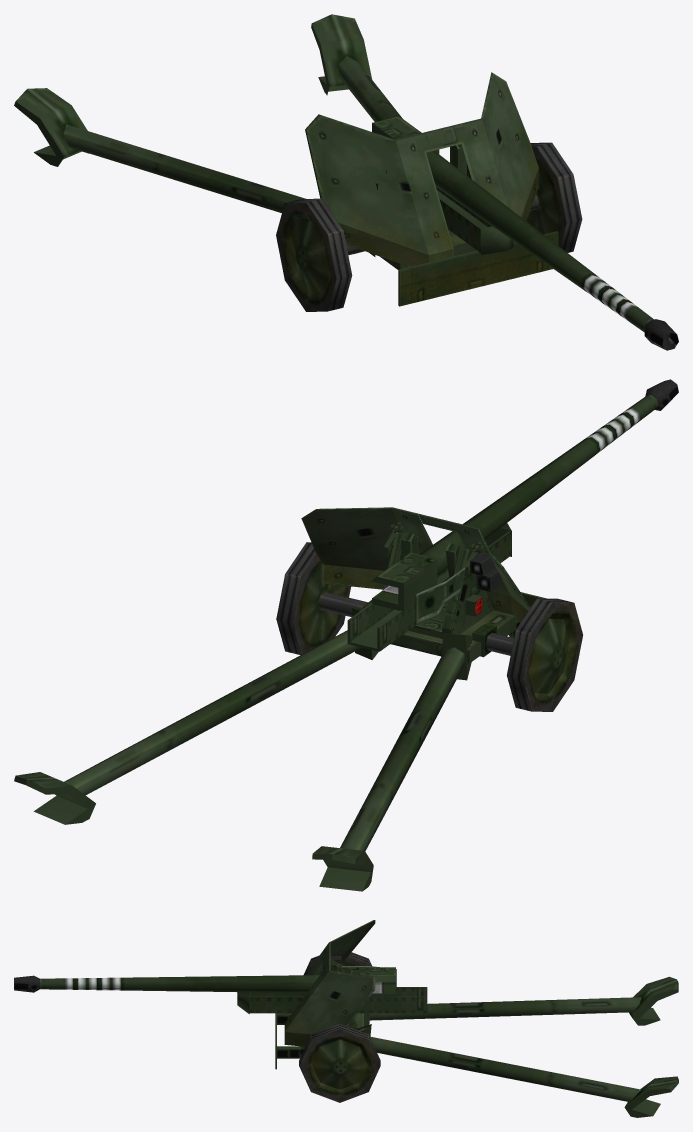
The model's file is HUNPaK40.dae.
3 renders of one model, top to bottom at view 1: azimuth 30°, elevation 25°; view 2: azimuth 150°, elevation 25°; view 3: azimuth 270°, elevation 25°, orthographic. The views are drawn at different scales.
Parts seen in each view (by area): view 1: turret, carriage, wheels, barrel, sleeve; view 2: carriage, turret, wheels, barrel, sleeve; view 3: carriage, turret, barrel, wheels, sleeve.
Boxes of the visible parts, x1=… form: turret: x1=305, y1=72, x2=538, y2=266; carriage: x1=14, y1=14, x2=558, y2=306; wheels: x1=276, y1=142, x2=582, y2=311; barrel: x1=372, y1=116, x2=678, y2=350; sleeve: x1=436, y1=187, x2=513, y2=254; carriage: x1=14, y1=592, x2=546, y2=891; turret: x1=301, y1=507, x2=530, y2=638; wheels: x1=276, y1=542, x2=582, y2=711; barrel: x1=371, y1=379, x2=678, y2=611; sleeve: x1=347, y1=523, x2=511, y2=651; carriage: x1=275, y1=976, x2=678, y2=1117; turret: x1=284, y1=920, x2=396, y2=1046; barrel: x1=14, y1=967, x2=395, y2=996; wheels: x1=299, y1=952, x2=380, y2=1102; sleeve: x1=237, y1=987, x2=427, y2=1014.
Size of the model in its own units: 21.34 by 53.38 by 10.44.
